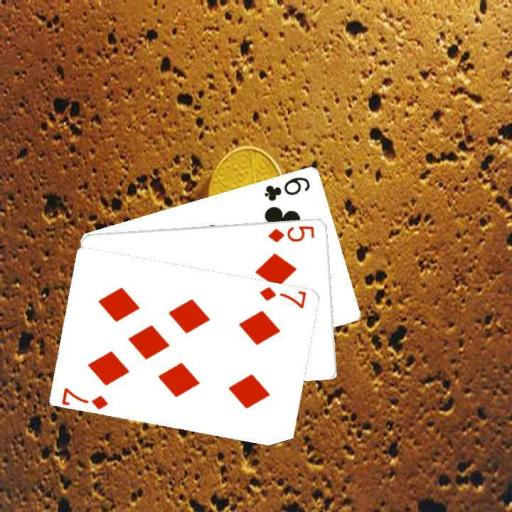5D: (265, 222, 316, 244)
6C: (261, 173, 312, 203)
7D: (59, 384, 110, 410), (257, 284, 307, 310)
